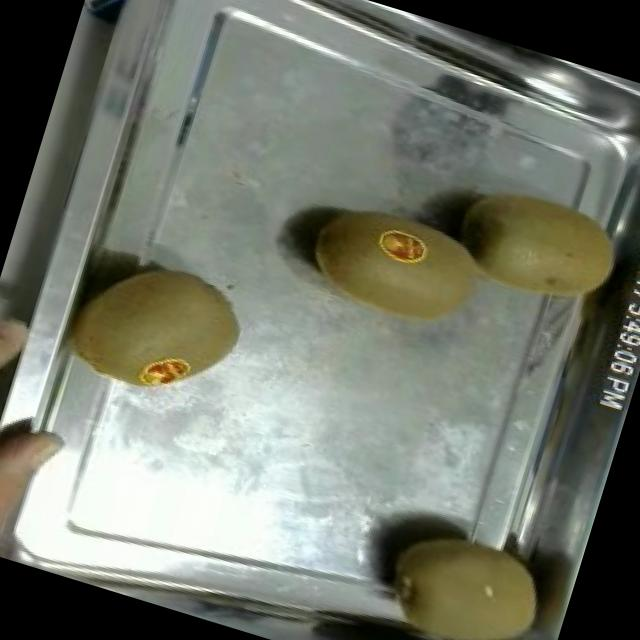Fruit: (54, 235, 260, 427), (286, 180, 502, 350), (428, 158, 638, 328), (354, 501, 567, 640), (0, 390, 104, 575)
